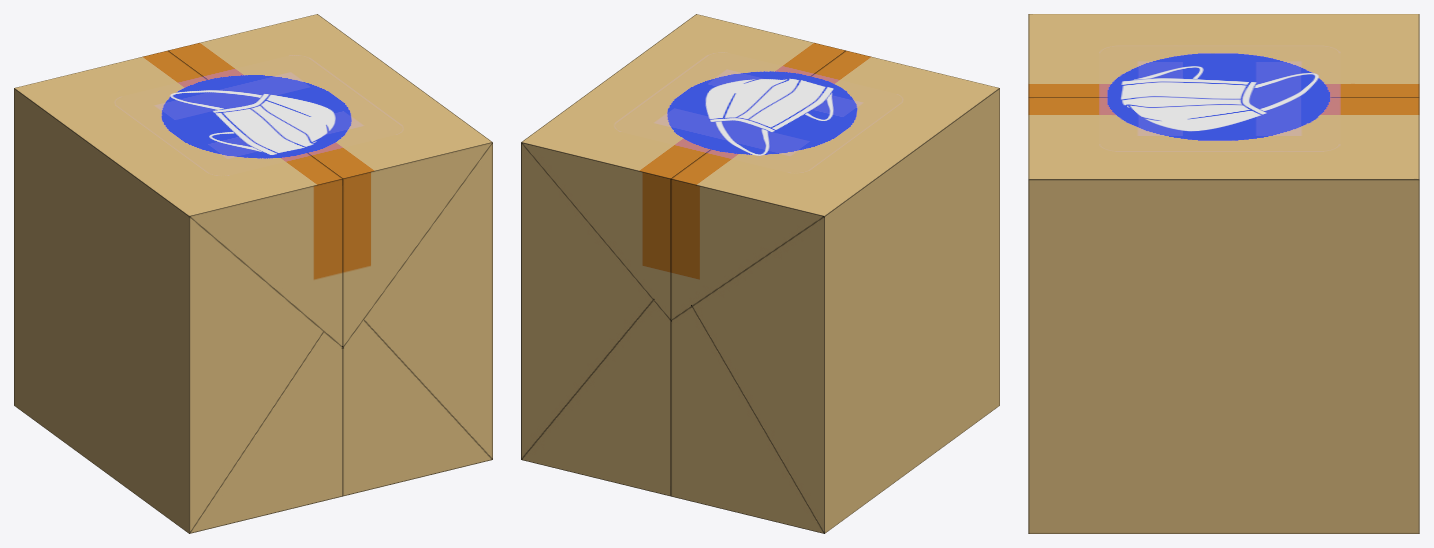
Rendered from Box of masks.fbx.
3 renders of one model, left to right at view 1: azimuth 30°, elevation 25°; view 2: azimuth 150°, elevation 25°; view 3: azimuth 270°, elevation 25°, orthographic. The views are drawn at different scales.
Parts seen in each view (by area): view 1: pCube1; view 2: pCube1; view 3: pCube1.
Part boxes in pixels (left/top/right/bottom): pCube1: left=14, top=14, right=492, bottom=533; pCube1: left=521, top=14, right=999, bottom=533; pCube1: left=1028, top=14, right=1419, bottom=533.
Size of the model in its own units: 1.91 by 1.91 by 1.91.
1 material, 1 textured.
